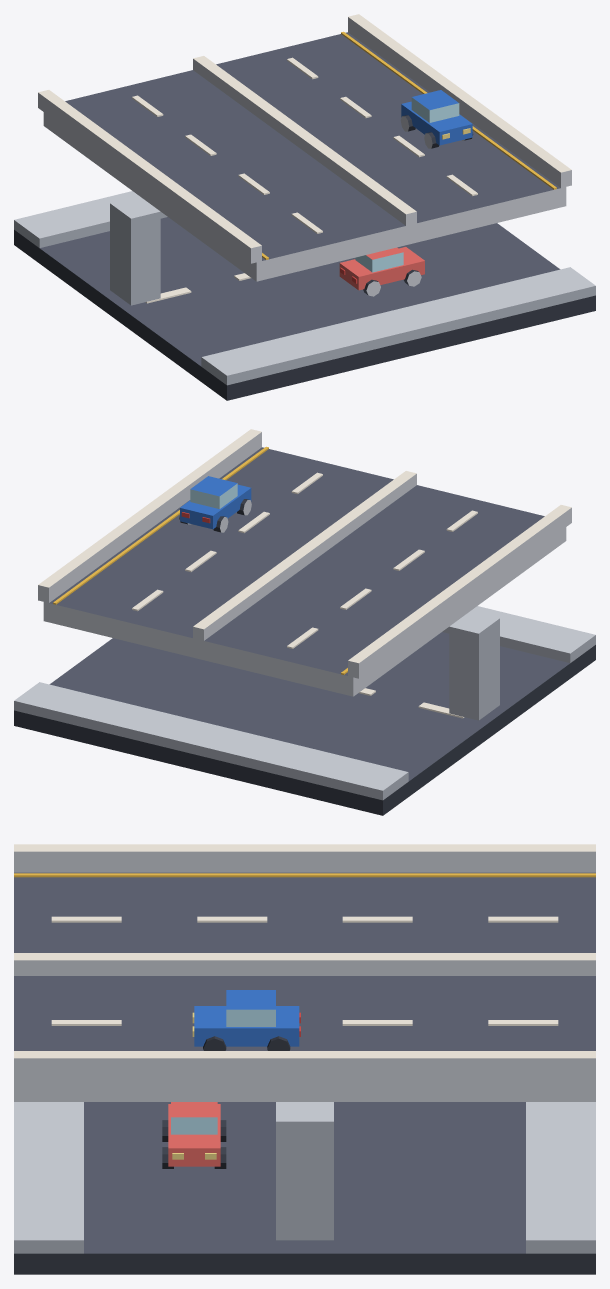
File: highway_over_road.glb
3 renders of one model, top to bottom at view 1: azimuth 30°, elevation 25°; view 2: azimuth 150°, elevation 25°; view 3: azimuth 270°, elevation 25°, orthographic. The views are drawn at different scales.
Visible parts, largest first — view 1: highway_over_road; view 2: highway_over_road; view 3: highway_over_road.
Part boxes in pixels (box(x1,y1,x2,y2)): highway_over_road: box(14, 14, 595, 400); highway_over_road: box(14, 429, 595, 815); highway_over_road: box(14, 844, 595, 1274).
Bounding box in the file's own units: 1 × 0.428 × 1.
